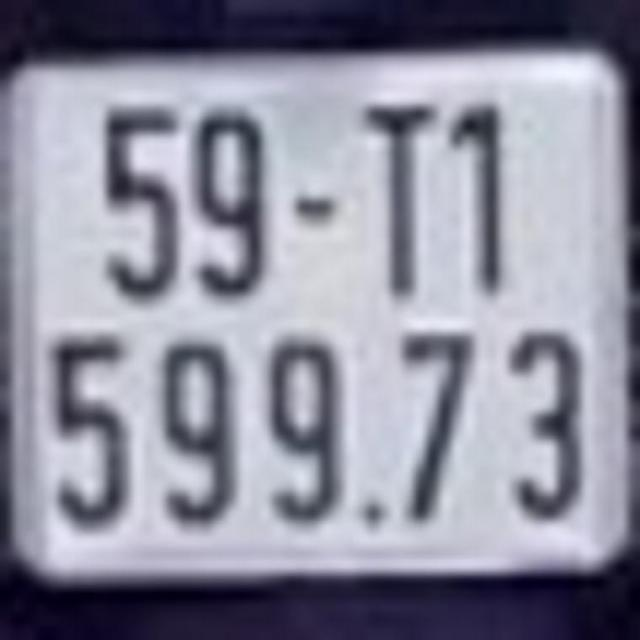1: (448, 96, 522, 300)
3: (503, 323, 586, 519)
5: (98, 94, 186, 302), (46, 330, 136, 532)
7: (396, 322, 480, 520)
9: (262, 330, 350, 528), (153, 334, 241, 524), (191, 100, 269, 310)
T: (356, 92, 443, 306)
